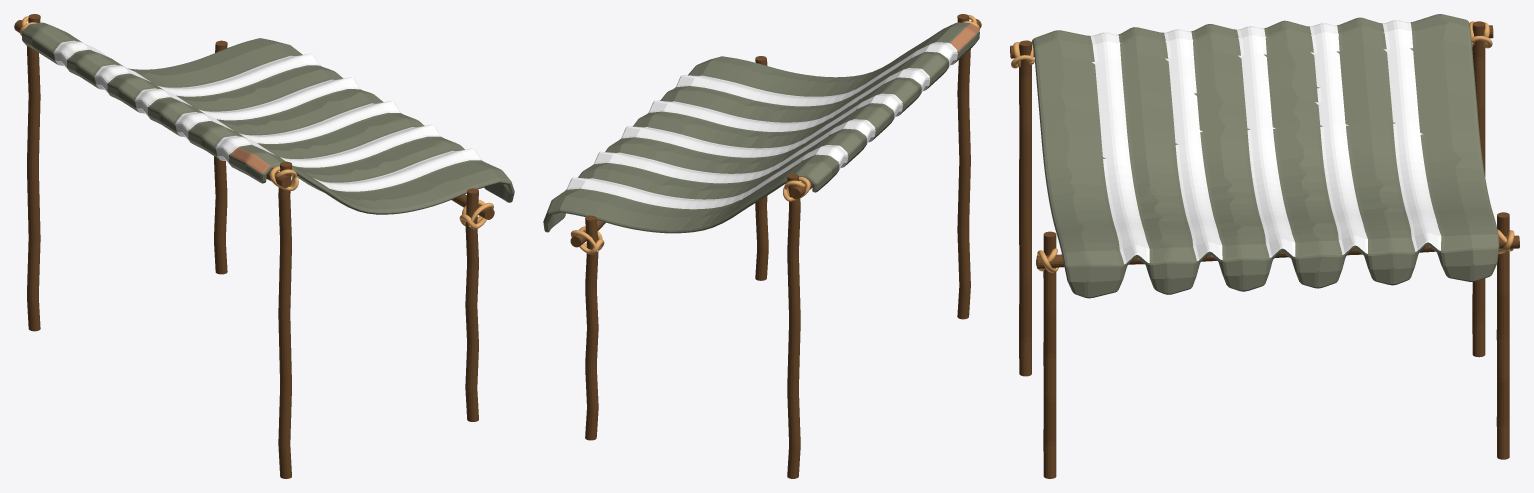
Rendered from market-stall1.fbx.
3 renders of one model, left to right at view 1: azimuth 30°, elevation 25°; view 2: azimuth 150°, elevation 25°; view 3: azimuth 270°, elevation 25°, orthographic. The views are drawn at different scales.
Parts seen in each view (by area): view 1: Plane.070; view 2: Plane.070; view 3: Plane.070.
Part boxes in pixels (x1,y1,x2,y2): Plane.070: (14, 14, 514, 478); Plane.070: (543, 14, 981, 478); Plane.070: (1010, 14, 1519, 478).
Bounding box in the file's own units: 364 × 353 × 488.
